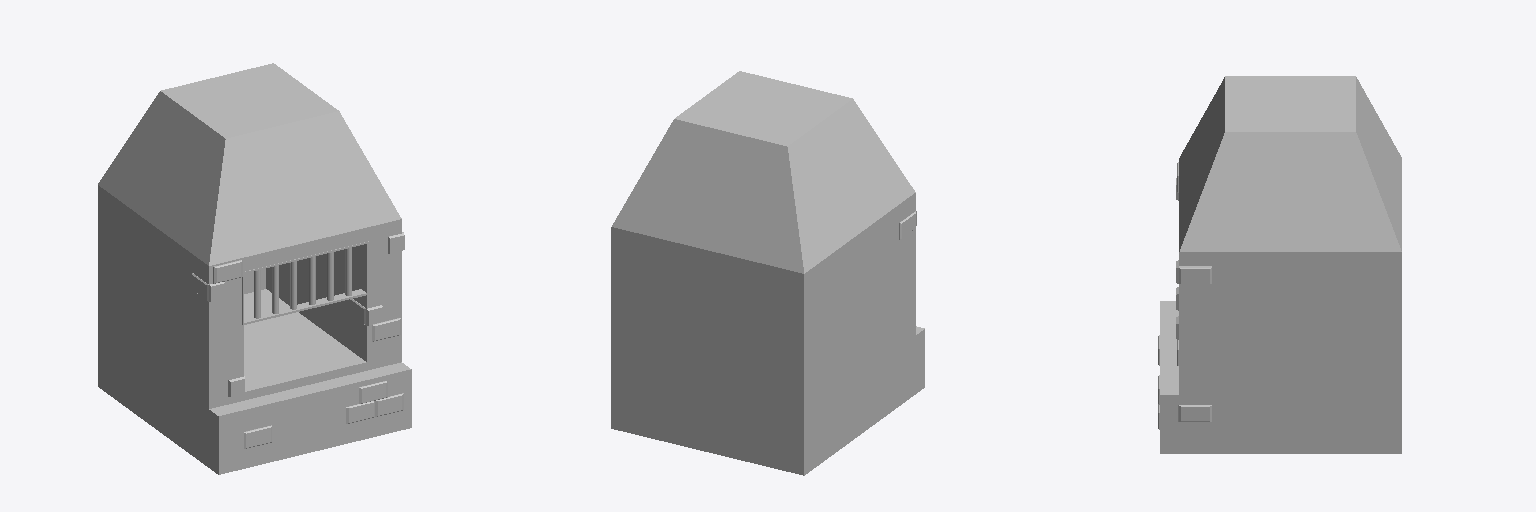
File: Furnace_GB.obj
The picture shows the model from 3 angles: view 1: azimuth 30°, elevation 25°; view 2: azimuth 150°, elevation 25°; view 3: azimuth 270°, elevation 25°; orthographic projection.
Visible parts, largest first — view 1: Furnace; view 2: Furnace; view 3: Furnace.
Boxes of the visible parts, <box> form: Furnace: <box>98,63,411,474</box>; Furnace: <box>611,71,924,475</box>; Furnace: <box>1158,76,1401,453</box>.
Size of the model in its own units: 10.24 by 15 by 10.96.